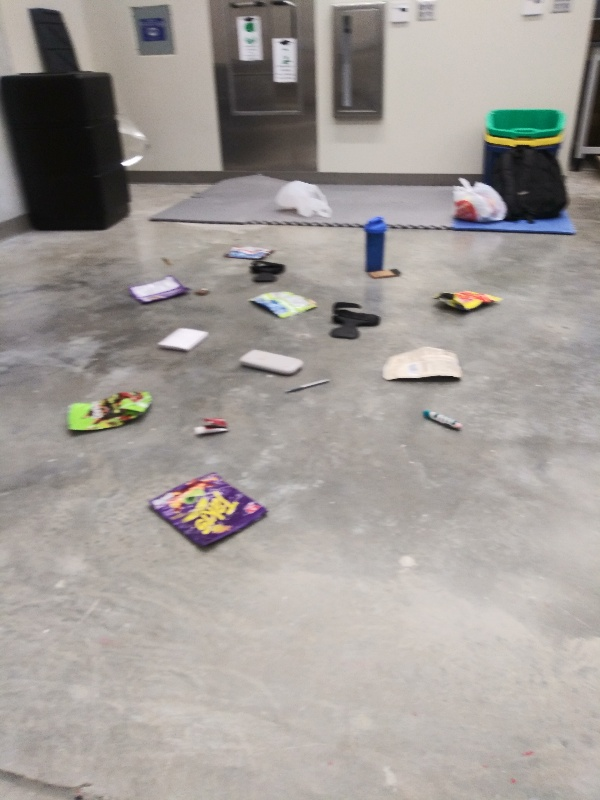bag: (141, 467, 273, 556), (62, 386, 158, 437), (377, 342, 466, 389), (122, 269, 193, 311), (241, 287, 325, 321), (428, 287, 505, 316), (218, 240, 279, 259)
